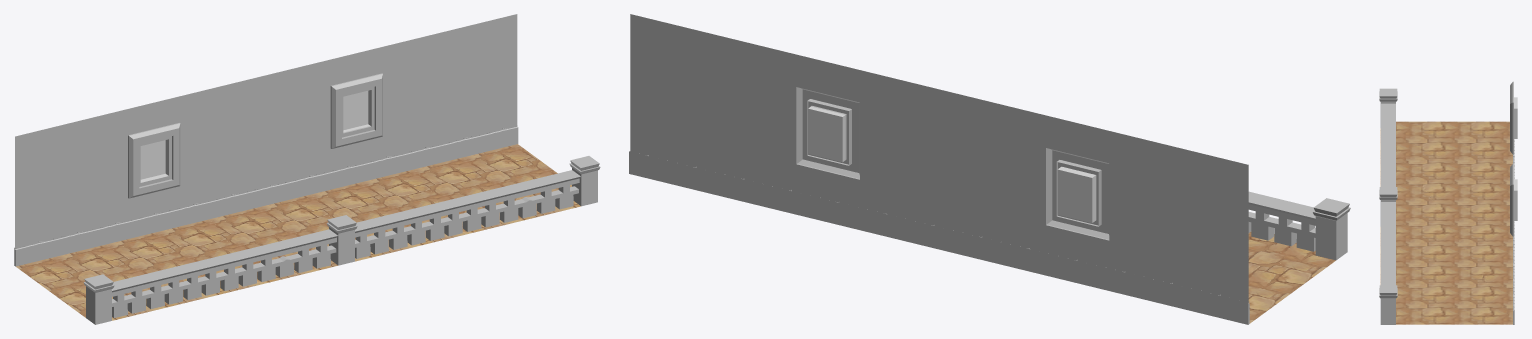
Rendered from wall.fbx.
The picture shows the model from 3 angles, left to right: view 1: azimuth 30°, elevation 25°; view 2: azimuth 150°, elevation 25°; view 3: azimuth 270°, elevation 25°; orthographic projection. The views are drawn at different scales.
Visible parts, largest first — view 1: Plane.002, Plane, Plane.003, Plane.001, Plane.008; view 2: Plane.002, Plane.001, Plane.003, Plane, Plane.008; view 3: Plane, Plane.003, Plane.002, Plane.008, Plane.001.
Part boxes in pixels (<box>): Plane.002: <box>15,14,517,249</box>; Plane: <box>16,144,580,320</box>; Plane.003: <box>83,156,600,324</box>; Plane.001: <box>14,125,518,266</box>; Plane.008: <box>140,90,370,182</box>; Plane.002: <box>630,14,1248,302</box>; Plane.001: <box>629,151,1249,324</box>; Plane.003: <box>1248,191,1350,260</box>; Plane: <box>1248,231,1335,323</box>; Plane.008: <box>808,106,1096,222</box>; Plane: <box>1380,121,1512,324</box>; Plane.003: <box>1379,88,1397,324</box>; Plane.002: <box>1510,81,1513,236</box>; Plane.008: <box>1514,97,1517,220</box>; Plane.001: <box>1513,139,1514,324</box>.
Size of the model in its own units: 5231 by 1281 by 1497.
